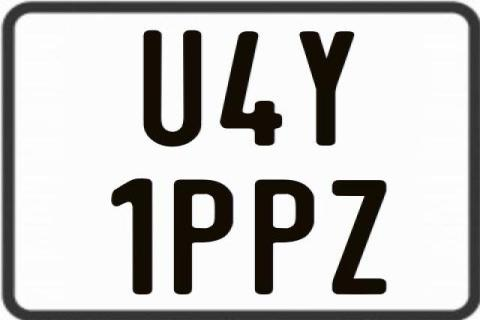0: (218, 30, 282, 146), (109, 178, 156, 296)
P: (171, 179, 232, 297), (254, 180, 316, 296)
U: (144, 29, 206, 145)
Y: (300, 31, 360, 148)
Z: (330, 179, 390, 295)
